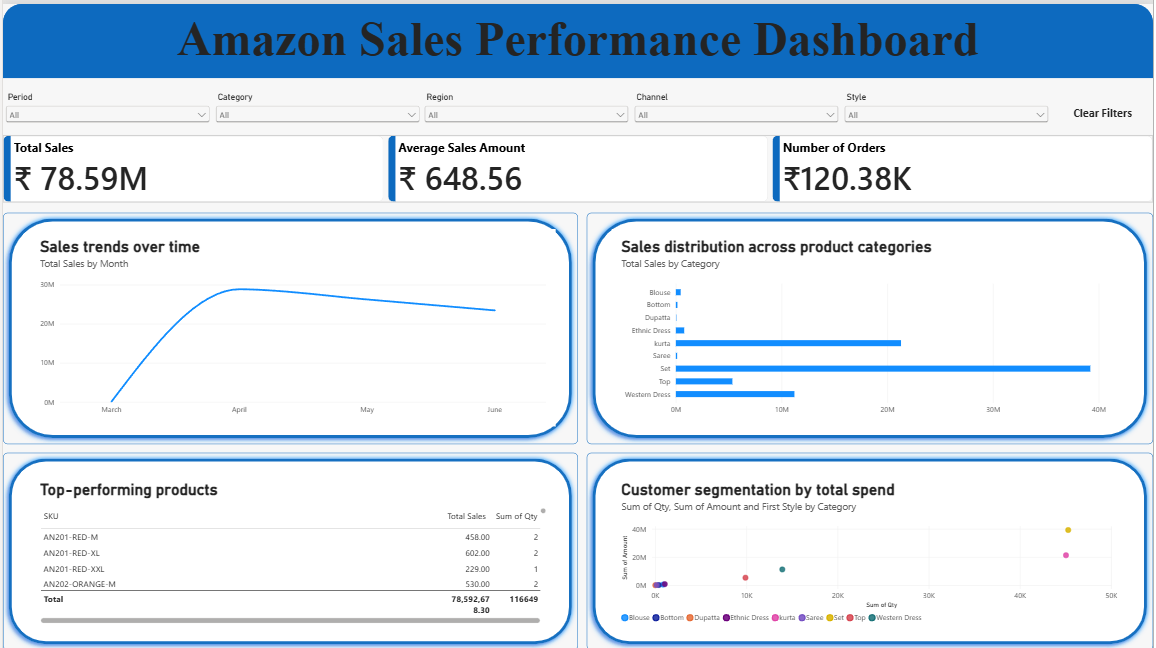

This screenshot's page, from the dashboard's own definition file:
{"tool":"powerbi","page":{"name":"Page 1","canvas":[1920,1080],"ordinal":0},"visuals":[{"type":"shape","box":[974.6,749.2,945.4,329.7],"z":0},{"type":"shape","box":[974.6,348.5,945.4,386.1],"z":1000},{"type":"shape","box":[0,749.2,960,329.7],"z":2000},{"type":"shape","box":[0,348.5,960,386.1],"z":3000},{"type":"shape","box":[0,0,1920,124],"z":4000},{"type":"textbox","box":[0,12,1920,123],"z":5000},{"type":"slicer","fields":{"Values":["Calendar.QuarterPeriod"]},"box":[0,146,350,72],"z":6000},{"type":"slicer","fields":{"Values":["public sale.Category"]},"box":[350,146,350,72],"z":7000},{"type":"slicer","fields":{"Values":["public sale.ship-state"]},"box":[700,146,350,72],"z":8000},{"type":"slicer","fields":{"Values":["public sale.Sales Channel"]},"box":[1050,146,350,72],"z":9000},{"type":"slicer","fields":{"Values":["public sale.Style"]},"box":[1400,146,350,72],"z":10000},{"type":"actionButton","title":"Clear Filters","box":[1750,169,170,27],"z":11000},{"type":"textbox","box":[0,375,272,150],"z":12000},{"type":"cardVisual","fields":{"Data":["public sale.Total Sales","public sale.Average Sales Amount","public sale.Number of Orders"]},"box":[0,219.1,1920,112],"z":13000},{"type":"lineChart","title":"Sales trends over time","fields":{"Category":["Calendar.Date.Variation.Date Hierarchy.Month"],"Y":["public sale.Total Sales"]},"box":[45.9,375.7,876.5,329.7],"z":14000},{"type":"clusteredBarChart","title":"Sales distribution across product categories ","fields":{"Category":["public sale.Category"],"Y":["public sale.Total Sales"]},"box":[1016.3,375.7,841,329.7],"z":15000},{"type":"tableEx","title":"Top-performing products ","fields":{"Values":["public sale.SKU","public sale.Total Sales","Sum(public sale.Qty)"]},"box":[45.9,780.5,876.5,269.2],"z":16000},{"type":"scatterChart","title":"Customer segmentation by total spend","fields":{"Series":["public sale.Category"],"X":["Sum(public sale.Qty)"],"Y":["Sum(public sale.Amount)"]},"box":[1016.3,780.5,859.8,273.4],"z":17000}]}

Visuals, with their boxes in screenshot pixels (x1, y1, x2, y2), scaled from the page's 1920x1080 canvas onto the 1156x648 screenshot:
shape: 587:450:1155:647
shape: 587:209:1155:441
shape: 0:450:578:647
shape: 0:209:578:441
shape: 0:0:1155:74
textbox: 0:7:1155:81
slicer - Calendar.QuarterPeriod: 0:88:211:131
slicer - public sale.Category: 211:88:421:131
slicer - public sale.ship-state: 421:88:632:131
slicer - public sale.Sales Channel: 632:88:843:131
slicer - public sale.Style: 843:88:1054:131
"Clear Filters" actionButton: 1054:101:1155:118
textbox: 0:225:164:315
cardVisual - public sale.Total Sales x public sale.Average Sales Amount: 0:131:1155:199
"Sales trends over time" lineChart: 28:225:555:423
"Sales distribution across product categories " clusteredBarChart: 612:225:1118:423
"Top-performing products " tableEx: 28:468:555:630
"Customer segmentation by total spend" scatterChart: 612:468:1130:632
